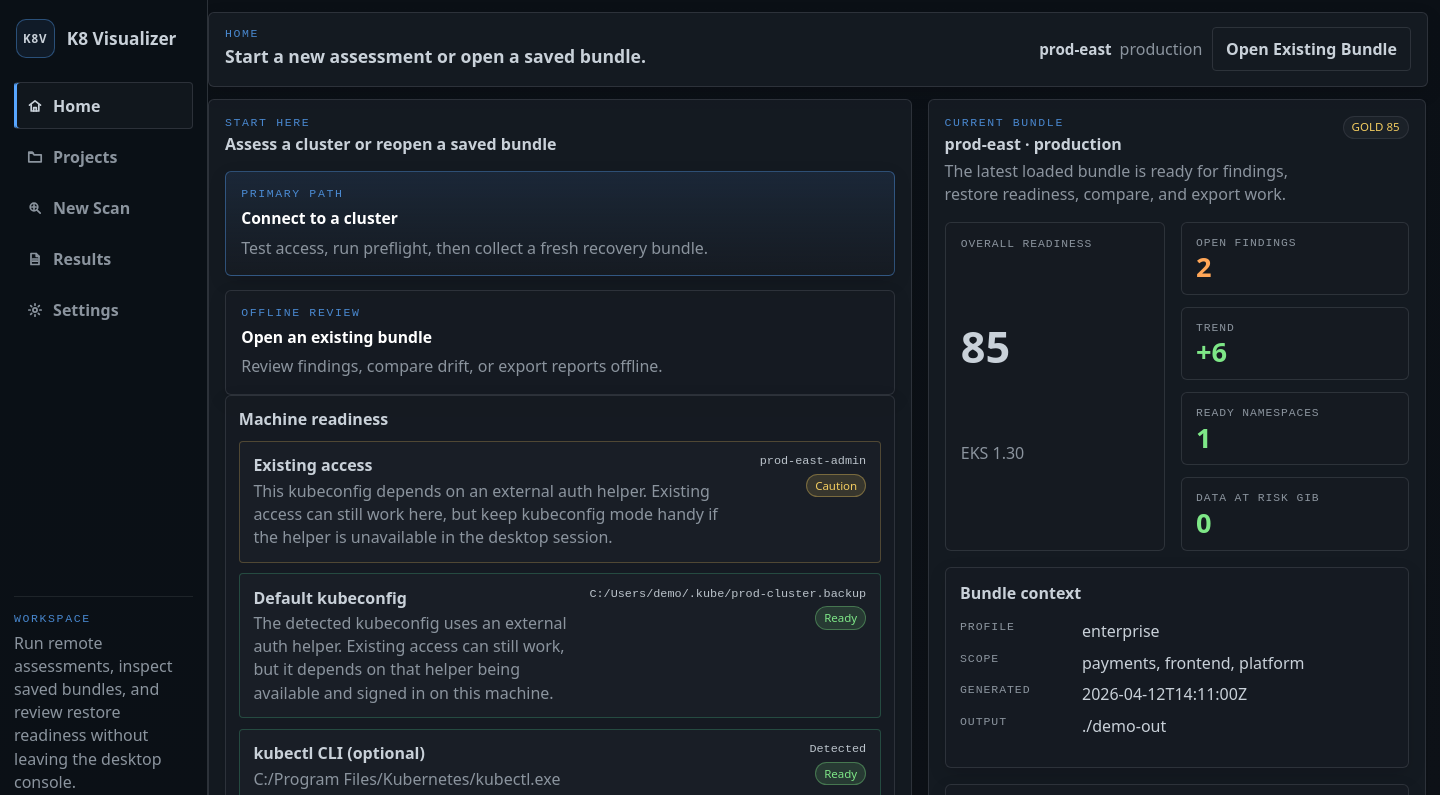
Test: desktop shell › surfaces bundle picker cancellation instead of failing silently
This screenshot has width=1440, height=795.
Click the button "Open Existing Bundle". click: (1311, 49)
box: [1212, 27, 1411, 71]
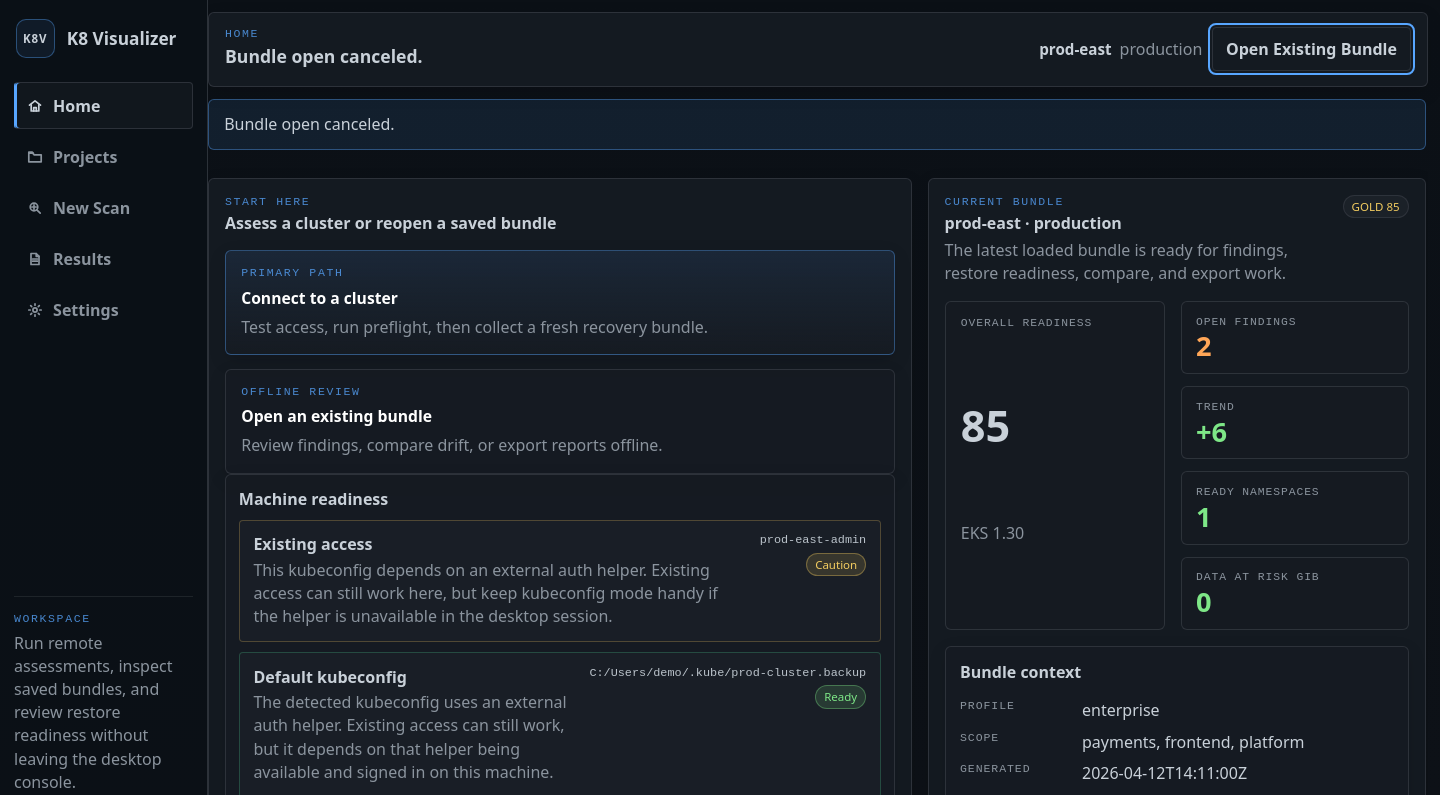
Result: the text "Bundle open canceled." is shown at [208, 99, 1426, 150]
